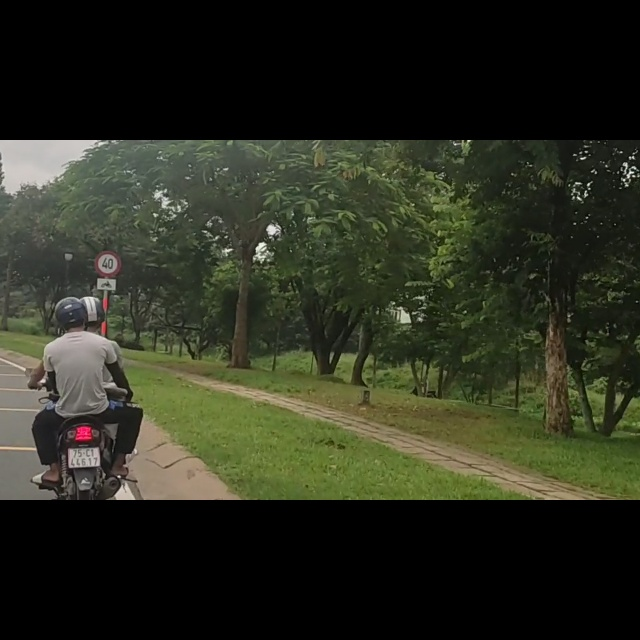Tốc độ tối đa cho phép 40km/h: (95, 250, 122, 279)
